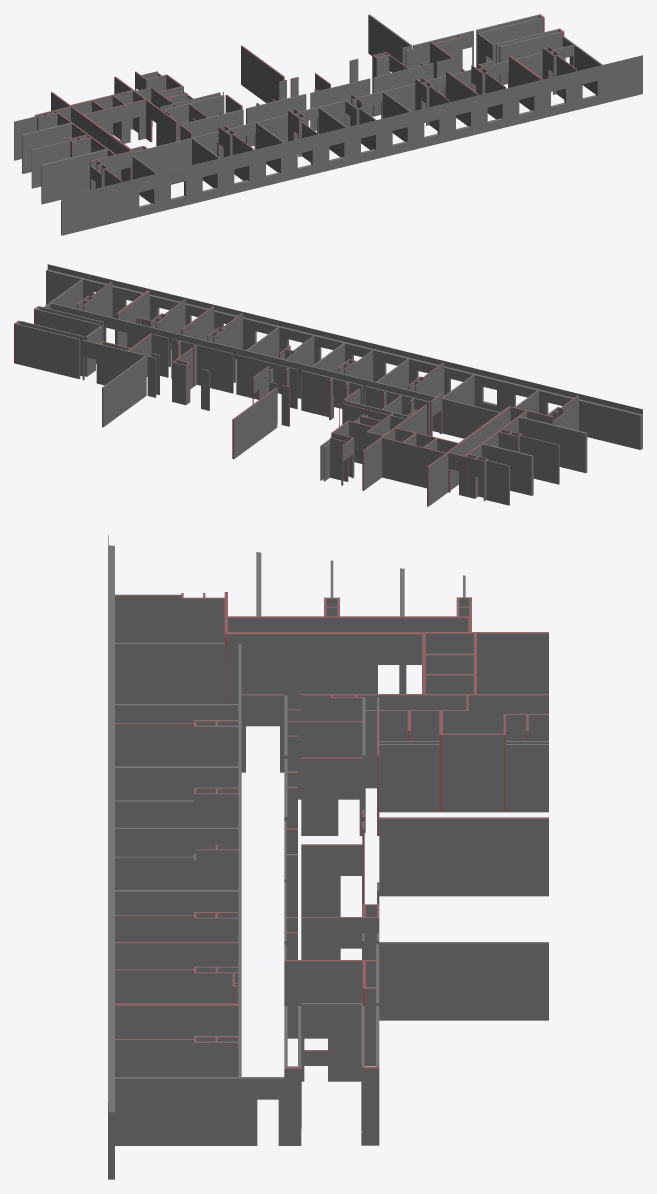
The model's file is Building Model - Excavation and Trench - updated_1kn71nZ$z5OvtVVlfMoOvv-Piso 2_IfcWallStandardCase.dae.
3 views of the same model, one above another, from view 1: azimuth 30°, elevation 25°; view 2: azimuth 150°, elevation 25°; view 3: azimuth 270°, elevation 25° (orthographic). The views are drawn at different scales.
Parts seen in each view (by area): view 1: 0jFAAIDIf1MvwbwQYdFy9N, 1RIbS68$HCzPJk3DTDzePa, 1RIbS68$HCzPJk3DTDzJP7, 1RIbS68$HCzPJk3DTDzInl, 1RIbS68$HCzPJk3DTDzlEM, 1RIbS68$HCzPJk3DTDzGPt, 1RIbS68$HCzPJk3DTDzeGa, 1RIbS68$HCzPJk3DTDzilX, 1RIbS68$HCzPJk3DTDzjLF, 1RIbS68$HCzPJk3DTDzl9j, 1RIbS68$HCzPJk3DTDzeSJ, 1RIbS68$HCzPJk3DTDzjyl (+24 smaller); view 2: 0jFAAIDIf1MvwbwQYdFy9N, 1RIbS68$HCzPJk3DTDzePa, 1RIbS68$HCzPJk3DTDzjyl, 1RIbS68$HCzPJk3DTDzJP7, 1RIbS68$HCzPJk3DTDzInl, 1RIbS68$HCzPJk3DTDzlPL, 1RIbS68$HCzPJk3DTDzlEM, 1RIbS68$HCzPJk3DTDzeGa, 1RIbS68$HCzPJk3DTDzeSJ, 1RIbS68$HCzPJk3DTDzGPt, 1RIbS68$HCzPJk3DTDzl9j, 1RIbS68$HCzPJk3DTDzlGO (+35 smaller); view 3: 1RIbS68$HCzPJk3DTDzeGa, 1RIbS68$HCzPJk3DTDzeSJ, 1RIbS68$HCzPJk3DTDzkMF, 1RIbS68$HCzPJk3DTDziUM, 1RIbS68$HCzPJk3DTDzf$3, 1RIbS68$HCzPJk3DTDzGPt, 1RIbS68$HCzPJk3DTDziPT, 0w0fvx7XfFd8$nhvMah$0K, 1RIbS68$HCzPJk3DTDzf2K, 0jFAAIDIf1MvwbwQYdFy9N, 1RIbS68$HCzPJk3DTDzkLc, 0WTBieNd9ErQW6KpA_DZXy (+34 smaller).
Boxes of the visible parts, bbox=[...] form: 0jFAAIDIf1MvwbwQYdFy9N: bbox=[61, 55, 642, 235]; 1RIbS68$HCzPJk3DTDzePa: bbox=[134, 44, 574, 173]; 1RIbS68$HCzPJk3DTDzJP7: bbox=[310, 58, 452, 130]; 1RIbS68$HCzPJk3DTDzInl: bbox=[181, 94, 306, 154]; 1RIbS68$HCzPJk3DTDzlEM: bbox=[41, 149, 107, 204]; 1RIbS68$HCzPJk3DTDzGPt: bbox=[114, 76, 192, 146]; 1RIbS68$HCzPJk3DTDzeGa: bbox=[241, 45, 284, 103]; 1RIbS68$HCzPJk3DTDzilX: bbox=[81, 99, 145, 143]; 1RIbS68$HCzPJk3DTDzjLF: bbox=[499, 31, 561, 84]; 1RIbS68$HCzPJk3DTDzl9j: bbox=[22, 122, 71, 173]; 1RIbS68$HCzPJk3DTDzeSJ: bbox=[368, 14, 412, 62]; 1RIbS68$HCzPJk3DTDzjyl: bbox=[413, 15, 538, 68]; 0jFAAIDIf1MvwbwQYdFy9N: bbox=[46, 264, 642, 449]; 1RIbS68$HCzPJk3DTDzePa: bbox=[50, 302, 499, 438]; 1RIbS68$HCzPJk3DTDzjyl: bbox=[16, 323, 145, 385]; 1RIbS68$HCzPJk3DTDzJP7: bbox=[151, 334, 297, 408]; 1RIbS68$HCzPJk3DTDzInl: bbox=[301, 370, 429, 435]; 1RIbS68$HCzPJk3DTDzlPL: bbox=[382, 437, 445, 488]; 1RIbS68$HCzPJk3DTDzlEM: bbox=[519, 416, 587, 472]; 1RIbS68$HCzPJk3DTDzeGa: bbox=[232, 387, 277, 459]; 1RIbS68$HCzPJk3DTDzeSJ: bbox=[102, 355, 146, 427]; 1RIbS68$HCzPJk3DTDzGPt: bbox=[362, 393, 442, 490]; 1RIbS68$HCzPJk3DTDzl9j: bbox=[482, 443, 533, 495]; 1RIbS68$HCzPJk3DTDzlGO: bbox=[519, 435, 559, 484]; 1RIbS68$HCzPJk3DTDzeGa: bbox=[379, 817, 548, 896]; 1RIbS68$HCzPJk3DTDzeSJ: bbox=[379, 942, 548, 1020]; 1RIbS68$HCzPJk3DTDzkMF: bbox=[115, 1077, 284, 1145]; 1RIbS68$HCzPJk3DTDziUM: bbox=[228, 632, 422, 709]; 1RIbS68$HCzPJk3DTDzf$3: bbox=[115, 642, 227, 703]; 1RIbS68$HCzPJk3DTDzGPt: bbox=[241, 694, 548, 772]; 1RIbS68$HCzPJk3DTDziPT: bbox=[425, 632, 548, 693]; 0w0fvx7XfFd8$nhvMah$0K: bbox=[443, 733, 503, 812]; 1RIbS68$HCzPJk3DTDzf2K: bbox=[228, 616, 471, 693]; 0jFAAIDIf1MvwbwQYdFy9N: bbox=[108, 535, 114, 1179]; 1RIbS68$HCzPJk3DTDzkLc: bbox=[115, 1003, 238, 1038]; 0WTBieNd9ErQW6KpA_DZXy: bbox=[379, 744, 439, 812].
Size of the model in its own units: 55.04 by 18.08 by 3.5.
